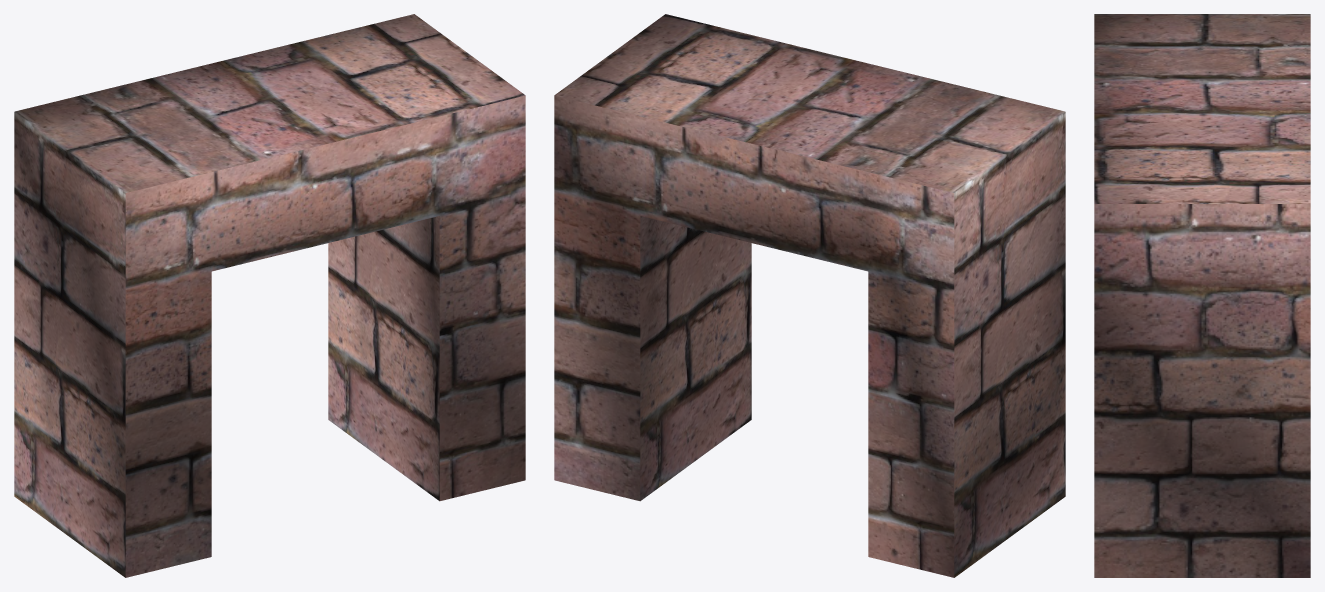
File: Dooooor_2.fbx
3 views of the same model, side by side, from view 1: azimuth 30°, elevation 25°; view 2: azimuth 150°, elevation 25°; view 3: azimuth 270°, elevation 25° (orthographic). The views are drawn at different scales.
Parts seen in each view (by area): view 1: Cube.001; view 2: Cube.001; view 3: Cube.001.
Part boxes in pixels (x1,y1,x2,y2): Cube.001: (14, 14, 525, 577); Cube.001: (554, 14, 1065, 577); Cube.001: (1094, 14, 1310, 577).
Bounding box in the file's own units: 843 × 774 × 406.
